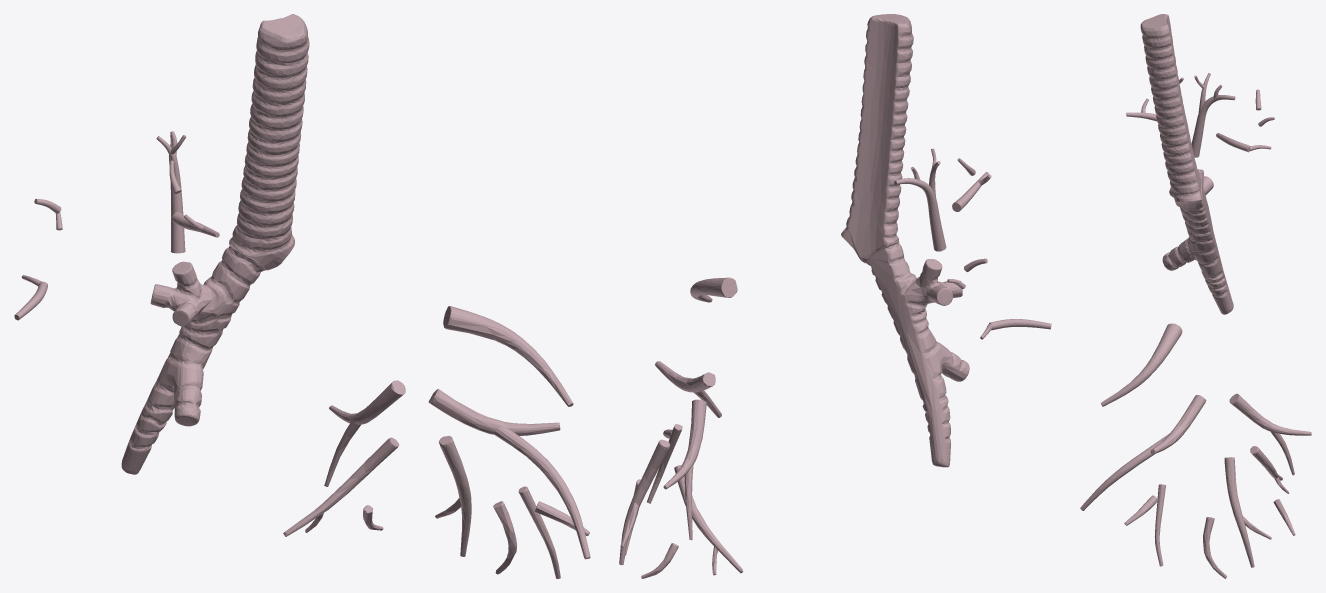
Rendered from respiratory-01.glb.
The picture shows the model from 3 angles, left to right: view 1: azimuth 30°, elevation 25°; view 2: azimuth 150°, elevation 25°; view 3: azimuth 270°, elevation 25°; orthographic projection. The views are drawn at different scales.
Parts seen in each view (by area): view 1: FJ2541, FJ2539, FJ2540, FJ2535, FJ2536, FJ2527, FJ2532, FJ2528, FJ2538, FJ2520; view 2: FJ2541, FJ2539, FJ2528, FJ2532, FJ2520, FJ2540, FJ2535, FJ2527, FJ2538; view 3: FJ2541, FJ2539, FJ2540, FJ2532, FJ2535, FJ2528, FJ2536, FJ2520, FJ2538, FJ2533, FJ2527.
Boxes of the visible parts, <box> form: FJ2541: <box>229,14,309,270</box>; FJ2539: <box>121,242,265,474</box>; FJ2540: <box>443,306,573,406</box>; FJ2535: <box>428,389,560,435</box>; FJ2536: <box>494,427,590,559</box>; FJ2527: <box>283,437,399,536</box>; FJ2532: <box>438,435,471,556</box>; FJ2528: <box>329,380,405,424</box>; FJ2538: <box>518,486,560,578</box>; FJ2520: <box>168,135,185,253</box>; FJ2541: <box>841,14,913,263</box>; FJ2539: <box>866,239,969,467</box>; FJ2528: <box>663,399,706,489</box>; FJ2532: <box>619,439,669,565</box>; FJ2520: <box>894,178,946,251</box>; FJ2540: <box>690,277,737,302</box>; FJ2535: <box>655,361,715,392</box>; FJ2527: <box>674,465,743,573</box>; FJ2538: <box>647,424,682,503</box>; FJ2541: <box>1140,14,1202,210</box>; FJ2539: <box>1162,169,1233,314</box>; FJ2540: <box>1100,323,1182,406</box>; FJ2532: <box>1224,457,1254,567</box>; FJ2535: <box>1150,395,1206,454</box>; FJ2528: <box>1229,393,1311,435</box>; FJ2536: <box>1080,433,1169,510</box>; FJ2520: <box>1191,95,1235,157</box>; FJ2538: <box>1155,484,1166,566</box>; FJ2533: <box>1203,517,1226,578</box>; FJ2527: <box>1250,446,1282,480</box>.
Size of the model in its own units: 0.2225 by 0.2706 by 0.1214.
